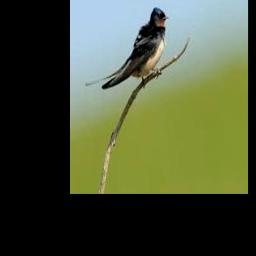Swallow: (85, 7, 168, 90)
